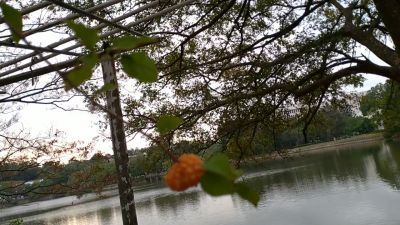eggs: (165, 153, 206, 193)
